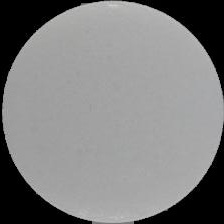60429-441: (0, 0, 224, 224)
